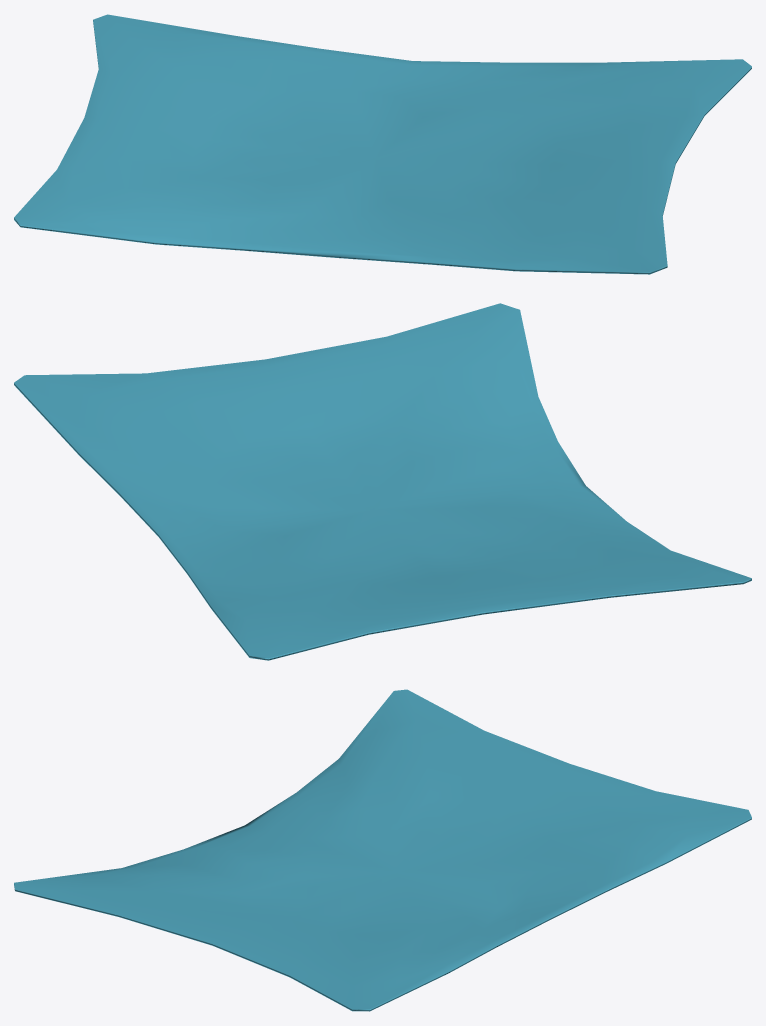
Rendered from Enviro_MarketTop_Blue_Creole_Untextured.fbx.
3 renders of one model, top to bottom at view 1: azimuth 30°, elevation 25°; view 2: azimuth 150°, elevation 25°; view 3: azimuth 270°, elevation 25°, orthographic. The views are drawn at different scales.
Visible parts, largest first — view 1: Cloth_Blue; view 2: Cloth_Blue; view 3: Cloth_Blue.
Boxes of the visible parts, x1,y1,x2,y2 form: Cloth_Blue: (14,14,751,274); Cloth_Blue: (14,303,751,660); Cloth_Blue: (14,689,751,1011).
Size of the model in its own units: 6.19 by 0.2883 by 6.03.
